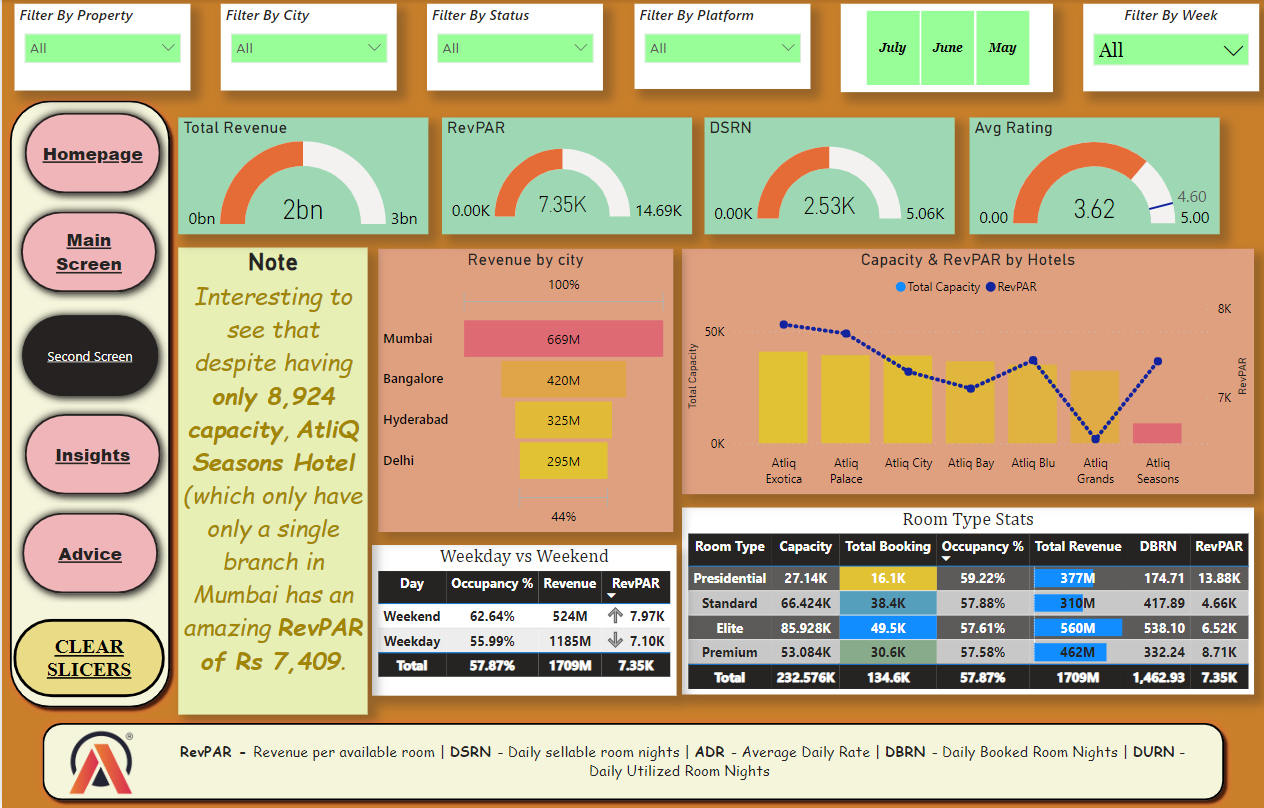

What the dashboard file says about the page in this screenshot:
{"tool":"powerbi","page":{"name":"Second Screen","canvas":[1280,820],"ordinal":2},"visuals":[{"type":"shape","box":[0,93.4,178.6,631.8],"z":0,"group":"g1"},{"type":"slicer","title":"Filter By City","fields":{"Values":["dim_hotels.city"]},"box":[221.8,4,178.6,87.9],"z":1000,"group":"g1"},{"type":"pageNavigator","box":[13.7,105.8,156.6,100],"z":2000,"group":"g1"},{"type":"slicer","title":"Filter By Property","fields":{"Values":["dim_hotels.property_name"]},"box":[12.4,4,178.6,87.9],"z":3000,"group":"g1"},{"type":"actionButton","box":[11,627.7,153.8,79.7],"z":4000,"group":"g1"},{"type":"slicer","title":"Filter By Status","fields":{"Values":["fact_bookings.booking_status"]},"box":[431.3,4,178.6,87.9],"z":5000,"group":"g1"},{"type":"slicer","title":"Filter By Platform","fields":{"Values":["fact_bookings.booking_platform"]},"box":[640.7,4,178.6,86.5],"z":6000,"group":"g1"},{"type":"tableEx","title":"Room Type Stats","fields":{"Values":["dim_rooms.room_class","Key Measures.Total Capacity","Key Measures.Total Successful Bookings","Key Measures.Occupancy %","Key Measures.Total Revenue","Key Measures.DBRM","Key Measures.RevPAR"]},"box":[689.8,515,580.1,189.3],"z":7000,"group":"g1"},{"type":"tableEx","title":"Weekday vs  Weekend","fields":{"Values":["dim_date.day_type","Key Measures.Occupancy %","Key Measures.Total Revenue","Key Measures.RevPAR"]},"box":[375,552.2,309,152.5],"z":8000,"group":"g1"},{"type":"lineClusteredColumnComboChart","title":"Capacity & RevPAR by Hotels","fields":{"Category":["dim_hotels.property_name"],"Y":["Sum(fact_aggregated_bookings.capacity)"],"Y2":["Key Measures.RevPAR"]},"box":[689.8,252.1,580.1,248.4],"z":9000,"group":"g1"},{"type":"funnel","title":"Revenue by city","fields":{"Category":["dim_hotels.city"],"Y":["Key Measures.Total Revenue"]},"box":[381.1,252.1,299.1,287],"z":10000,"group":"g1"},{"type":"textbox","title":"Note","box":[178.6,251.4,192.3,473.9],"z":11000,"group":"g1"},{"type":"gauge","fields":{"Y":["Key Measures.Total Revenue"]},"box":[178.5,119.4,253.3,118.2],"z":12000,"group":"g1"},{"type":"gauge","fields":{"Y":["Key Measures.RevPAR"]},"box":[446.2,119.4,253.3,118.2],"z":13000,"group":"g1"},{"type":"gauge","fields":{"Y":["Key Measures.DSRN"]},"box":[712.8,119.4,253.3,118.2],"z":14000,"group":"g1"},{"type":"gauge","title":"Avg Rating","fields":{"Y":["Key Measures.Avg Rating"],"MaxValue":["Key Measures.Best Rating"],"TargetValue":["Key Measures.Target Rating"]},"box":[980.5,119.4,253.3,118.2],"z":15000,"group":"g1"},{"type":"shape","box":[33,725.2,1214.2,94.8],"z":16000,"group":"g1"},{"type":"image","box":[59.1,734.8,83.8,75.5],"z":17000,"group":"g1"},{"type":"textbox","box":[155.2,747.2,1064.5,63.2],"z":18000,"group":"g1"},{"type":"pageNavigator","box":[11,310.4,156.6,100.3],"z":19000,"group":"g1"},{"type":"pageNavigator","box":[9.6,206,156.6,100.3],"z":20000,"group":"g1"},{"type":"slicer","title":"Filter By Week","fields":{"Values":["dim_date.wn"]},"box":[1096.1,4,178,89],"z":21000,"group":"g1"},{"type":"slicer","title":"Filter By Month","fields":{"Values":["dim_date.Month_Name"]},"box":[850.2,4,215,89.3],"z":22000,"group":"g1"},{"type":"pageNavigator","box":[13.7,410.7,156.6,100],"z":23000,"group":"g1"},{"type":"group","id":"g1","title":"Group 1","box":[0,4,1274.1,816],"z":23002},{"type":"pageNavigator","box":[11,511,156.6,100],"z":24000,"group":"g1"}]}

Visuals, with their boxes in screenshot pixels (x1, y1, x2, y2), scaled from the page's 1280x820 canvas onto the 1264x808 screenshot:
shape: bbox=(0, 92, 176, 715)
"Filter By City" slicer: bbox=(219, 4, 395, 91)
pageNavigator: bbox=(14, 104, 168, 203)
"Filter By Property" slicer: bbox=(12, 4, 189, 91)
actionButton: bbox=(11, 619, 163, 697)
"Filter By Status" slicer: bbox=(426, 4, 602, 91)
"Filter By Platform" slicer: bbox=(633, 4, 809, 89)
"Room Type Stats" tableEx: bbox=(681, 507, 1254, 694)
"Weekday vs  Weekend" tableEx: bbox=(370, 544, 675, 694)
"Capacity & RevPAR by Hotels" lineClusteredColumnComboChart: bbox=(681, 248, 1254, 493)
"Revenue by city" funnel: bbox=(376, 248, 672, 531)
"Note" textbox: bbox=(176, 248, 366, 715)
gauge - Key Measures.Total Revenue: bbox=(176, 118, 426, 234)
gauge - Key Measures.RevPAR: bbox=(441, 118, 691, 234)
gauge - Key Measures.DSRN: bbox=(704, 118, 954, 234)
"Avg Rating" gauge: bbox=(968, 118, 1218, 234)
shape: bbox=(33, 715, 1232, 807)
image: bbox=(58, 724, 141, 798)
textbox: bbox=(153, 736, 1204, 799)
pageNavigator: bbox=(11, 306, 166, 405)
pageNavigator: bbox=(9, 203, 164, 302)
"Filter By Week" slicer: bbox=(1082, 4, 1258, 92)
"Filter By Month" slicer: bbox=(840, 4, 1052, 92)
pageNavigator: bbox=(14, 405, 168, 503)
"Group 1" group: bbox=(0, 4, 1258, 807)
pageNavigator: bbox=(11, 504, 166, 602)
